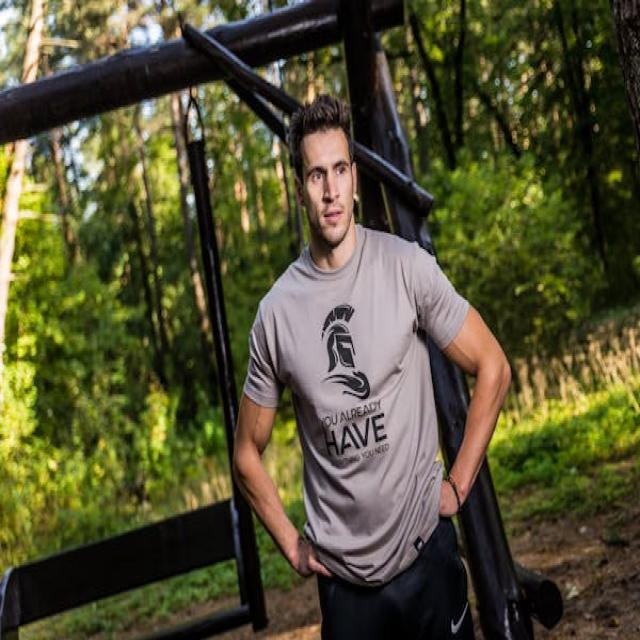Real human 2: (225, 93, 526, 640)
